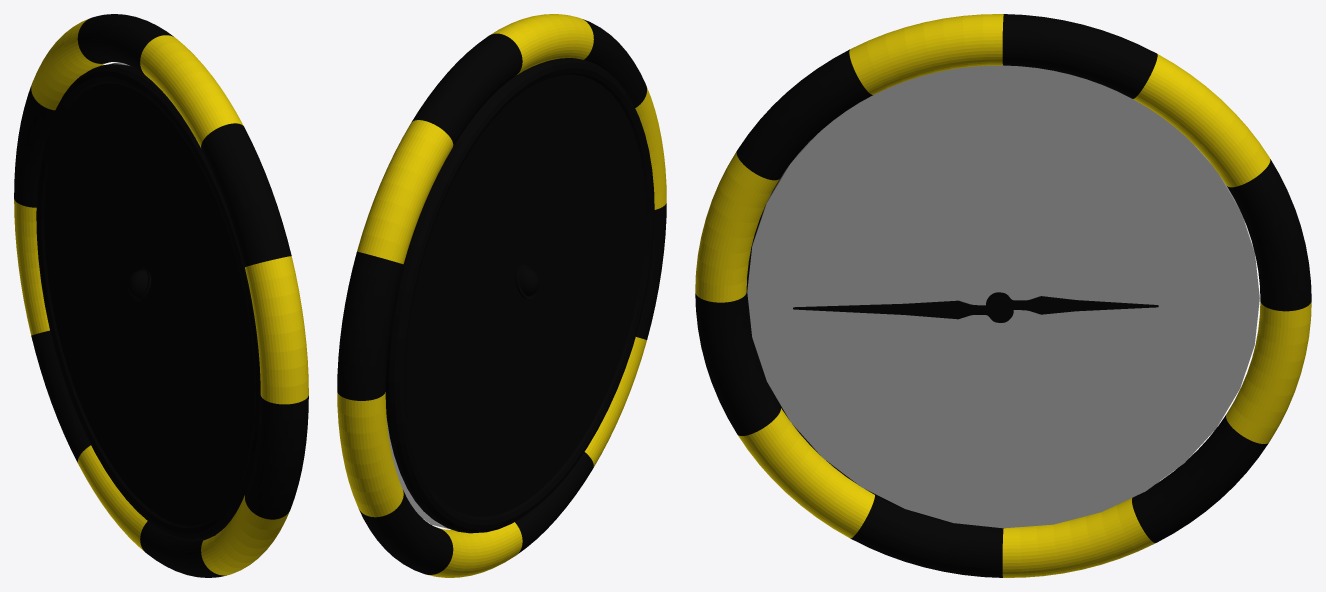
File: clock.fbx
3 renders of one model, left to right at view 1: azimuth 30°, elevation 25°; view 2: azimuth 150°, elevation 25°; view 3: azimuth 270°, elevation 25°, orthographic. The views are drawn at different scales.
Visible parts, largest first — view 1: Cylinder02, Torus01, Torus02, pipka; view 2: Cylinder02, Torus01, Torus02, pipka, Cylinder01; view 3: Cylinder01, Torus01, Line01, Line02.
Part boxes in pixels (box(x1,y1,x2,y2)): Cylinder02: box(44, 83, 254, 536); Torus01: box(14, 14, 308, 577); Torus02: box(36, 64, 260, 541); pipka: box(127, 267, 151, 301); Cylinder02: box(405, 65, 645, 517); Torus01: box(337, 14, 666, 577); Torus02: box(385, 58, 654, 533); pipka: box(515, 264, 539, 299); Cylinder01: box(386, 418, 451, 529); Cylinder01: box(747, 65, 1259, 528); Torus01: box(695, 14, 1311, 577); Line01: box(793, 298, 1013, 322); Line02: box(986, 292, 1158, 314).
Size of the model in its own units: 0.309 by 2.44 by 2.44.
